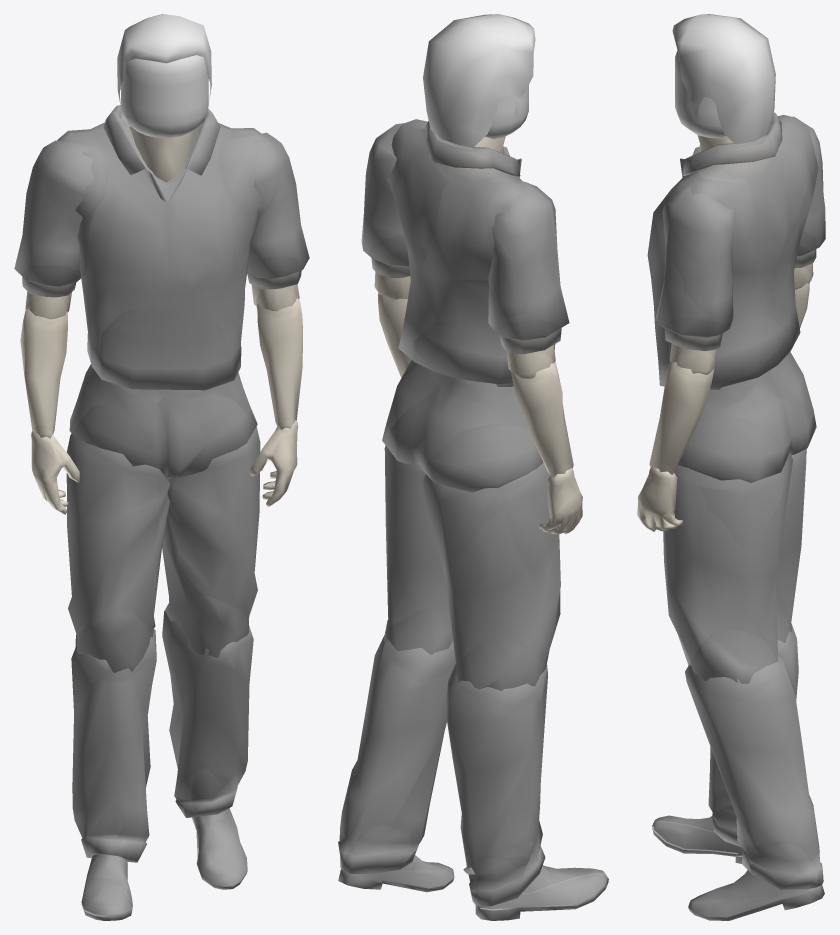
The model's file is xingren.fbx.
3 renders of one model, left to right at view 1: azimuth 30°, elevation 25°; view 2: azimuth 150°, elevation 25°; view 3: azimuth 270°, elevation 25°, orthographic.
Visible parts, largest first — view 1: 躯体, 右大腿, 大腿, 右小腿, 屁股, 左小腿, 头, 右胳膊, 左胳膊, 右小臂, 左小臂, 左脚 (+6 smaller); view 2: 躯体, 右大腿, 右小腿, 左小腿, 屁股, 头, 右胳膊, 大腿, 左胳膊, 右小臂, 右脚, 左脚 (+4 smaller); view 3: 躯体, 大腿, 左小腿, 头, 屁股, 左胳膊, 左小臂, 左脚, 右大腿, 右脚, 右小腿, 左手 (+3 smaller).
Boxes of the visible parts, bbox=[...] form: 躯体: bbox=[57, 105, 266, 390]; 右大腿: bbox=[66, 433, 169, 672]; 大腿: bbox=[162, 426, 260, 657]; 右小腿: bbox=[71, 629, 156, 862]; 屁股: bbox=[69, 364, 257, 479]; 左小腿: bbox=[162, 611, 253, 817]; 头: bbox=[117, 14, 211, 137]; 右胳膊: bbox=[14, 140, 94, 297]; 左胳膊: bbox=[247, 132, 309, 289]; 右小臂: bbox=[20, 308, 67, 438]; 左小臂: bbox=[256, 298, 302, 429]; 左脚: bbox=[192, 808, 247, 889]; 躯体: bbox=[387, 119, 555, 386]; 右大腿: bbox=[423, 463, 560, 691]; 右小腿: bbox=[445, 663, 547, 906]; 左小腿: bbox=[338, 635, 455, 873]; 屁股: bbox=[382, 360, 543, 492]; 头: bbox=[423, 14, 535, 146]; 右胳膊: bbox=[488, 181, 569, 354]; 大腿: bbox=[384, 445, 452, 654]; 左胳膊: bbox=[361, 123, 410, 278]; 右小臂: bbox=[509, 362, 573, 477]; 右脚: bbox=[475, 865, 608, 920]; 左脚: bbox=[338, 855, 454, 892]; 躯体: bbox=[647, 112, 818, 389]; 大腿: bbox=[663, 453, 792, 683]; 左小腿: bbox=[685, 653, 823, 889]; 头: bbox=[672, 14, 775, 144]; 屁股: bbox=[678, 352, 816, 482]; 左胳膊: bbox=[656, 186, 735, 350]; 左小臂: bbox=[649, 361, 714, 474]; 左脚: bbox=[688, 870, 824, 920]; 右大腿: bbox=[776, 449, 806, 643]; 右脚: bbox=[652, 815, 742, 863]; 右小腿: bbox=[708, 623, 798, 847]; 左手: bbox=[637, 467, 682, 531].
Bounding box in the file's own units: 476 × 1657 × 327.
